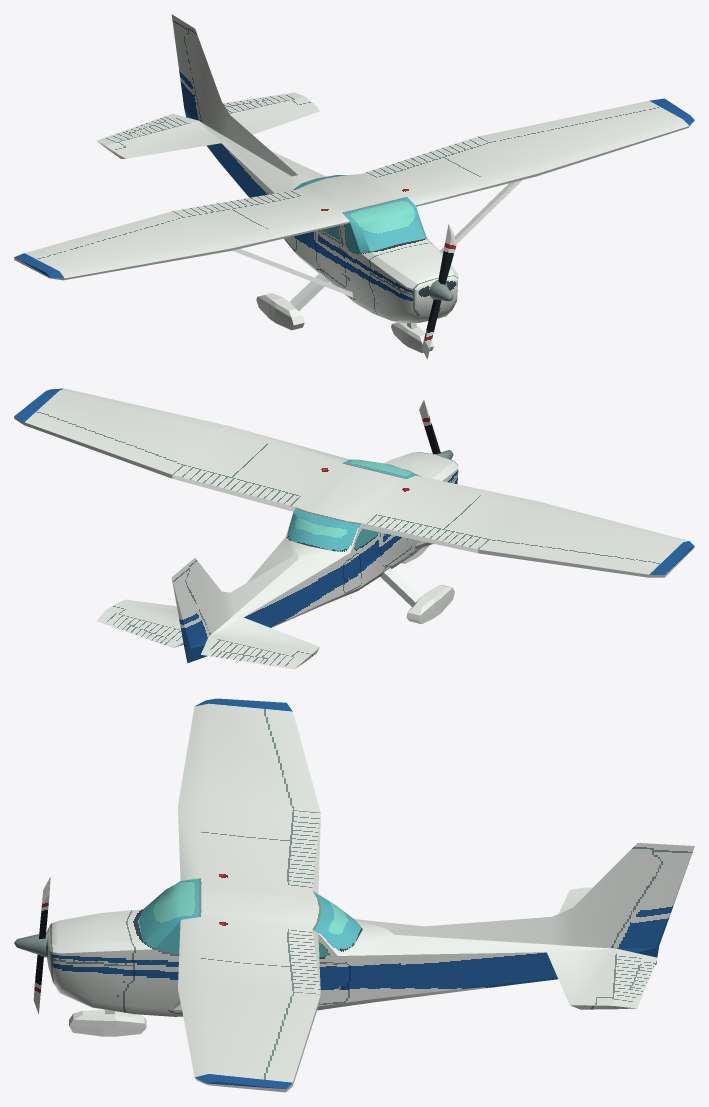
Rendered from cessna172.glb.
The picture shows the model from 3 angles, top to bottom: view 1: azimuth 30°, elevation 25°; view 2: azimuth 150°, elevation 25°; view 3: azimuth 270°, elevation 25°; orthographic projection. The views are drawn at different scales.
Visible parts, largest first — view 1: Body, Propeller; view 2: Body, Propeller; view 3: Body, Propeller.
Part boxes in pixels (box(x1,y1,x2,y2)): Body: box(14, 14, 694, 352); Propeller: box(422, 224, 456, 359); Body: box(14, 388, 694, 669); Propeller: box(419, 400, 453, 459); Body: box(46, 698, 694, 1092); Propeller: box(14, 877, 50, 1014).
Size of the model in its own units: 11.05 by 2.53 by 8.23.
1 material, 1 textured.
